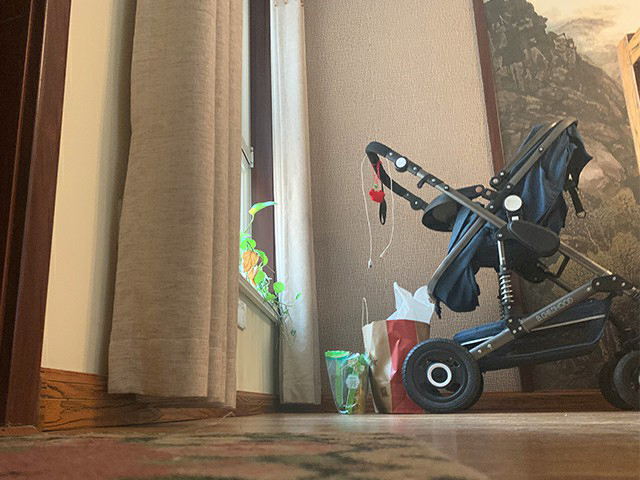carpet: (1, 430, 499, 480)
curtain: (103, 1, 242, 408), (268, 1, 321, 407)
